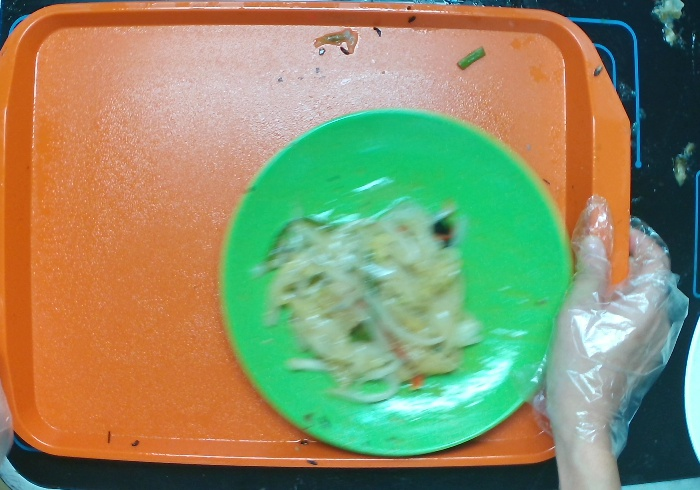HZYJPL-Lv_Se_Yuan_Pan: (216, 106, 578, 462)
